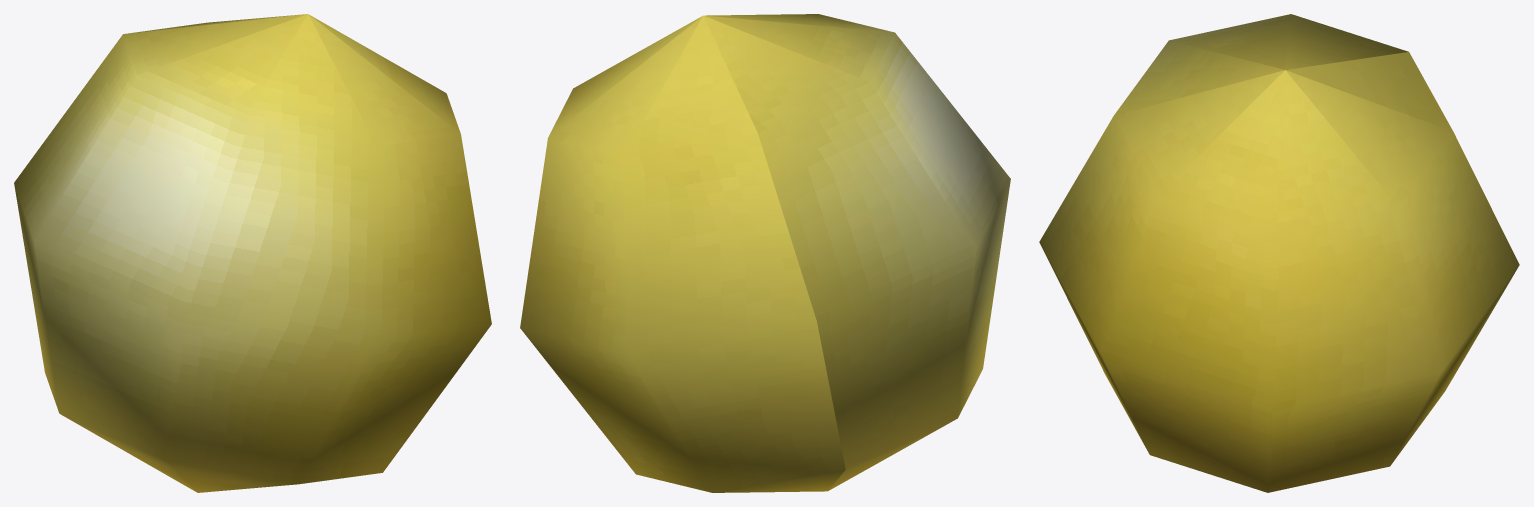
The model's file is Boll08.obj.
3 renders of one model, left to right at view 1: azimuth 30°, elevation 25°; view 2: azimuth 150°, elevation 25°; view 3: azimuth 270°, elevation 25°, orthographic. The views are drawn at different scales.
Parts seen in each view (by area): view 1: Boll08; view 2: Boll08; view 3: Boll08.
Boxes of the visible parts, x1,y1,x2,y2 form: Boll08: [14, 14, 491, 492]; Boll08: [520, 14, 1010, 492]; Boll08: [1039, 14, 1519, 492].
Size of the model in its own units: 18.07 by 18.08 by 18.72.
